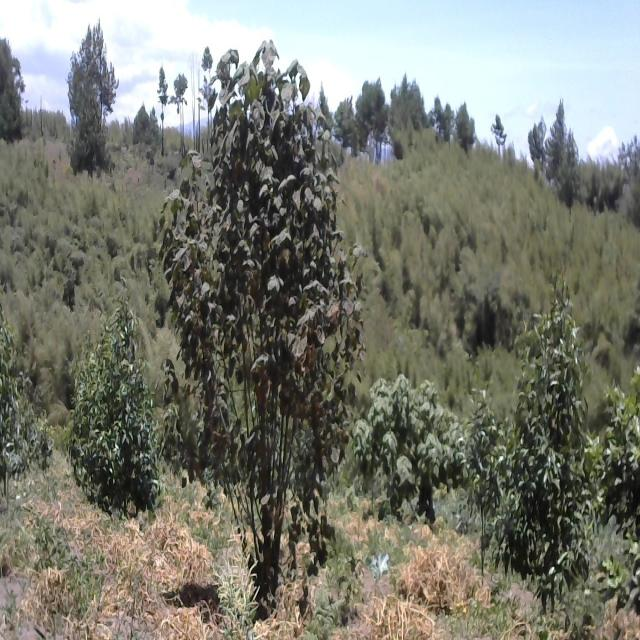Hass Avocado: (501, 285, 602, 604), (73, 287, 159, 510), (453, 387, 503, 564), (0, 306, 36, 484)
cedrus: (66, 15, 118, 158), (547, 100, 577, 190), (392, 70, 414, 160), (197, 44, 215, 149), (369, 69, 389, 162), (313, 78, 338, 146), (156, 67, 170, 152), (455, 97, 477, 151), (172, 64, 185, 155), (528, 116, 546, 167), (488, 115, 511, 153)
other: (164, 41, 345, 580), (354, 376, 451, 522)
